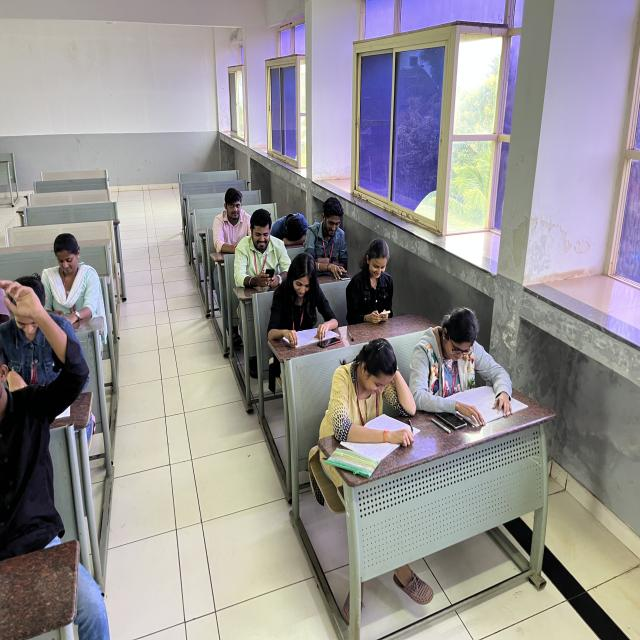Reading: (409, 308, 531, 433), (320, 340, 414, 474), (271, 247, 351, 358)
Sleeping: (268, 184, 322, 246)
Using Phone: (343, 236, 408, 332), (236, 198, 291, 292)
